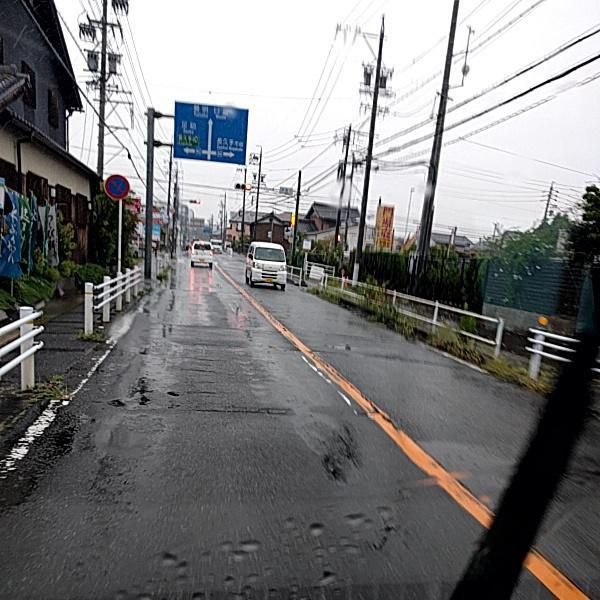D44: (280, 337, 443, 473), (22, 346, 114, 444)
